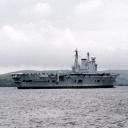Portanaves: (11, 47, 122, 92)
